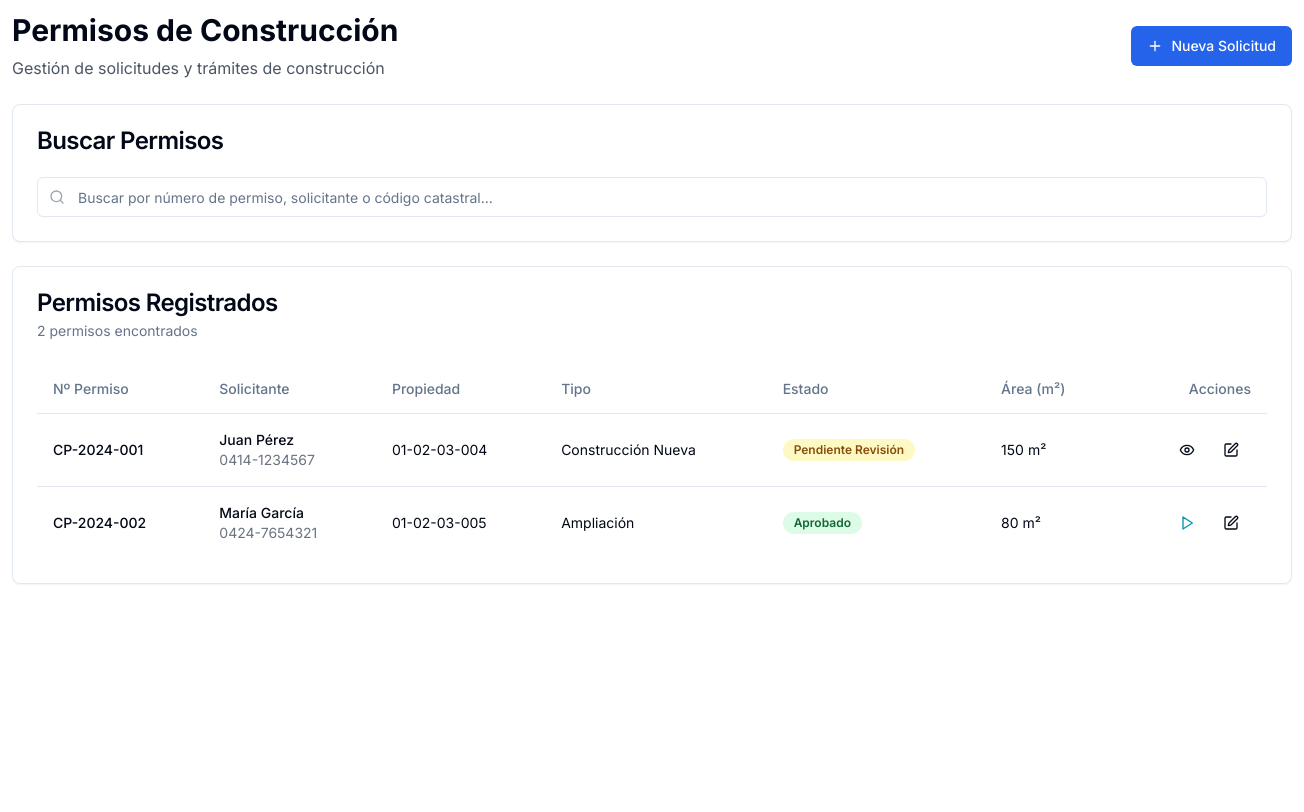
Test: Catastro Integration Tests › Construction Permits Management › filters permits by search term
This screenshot has width=1304, height=812.
Expected: the text "CP-2024-001" is shown, top-left (37, 413), bottom-right (203, 486)
In the field with placeholder "Buscar por número de permiso": x=652, y=197 top-left (37, 177), bottom-right (1267, 217), type "CP-2024-002"
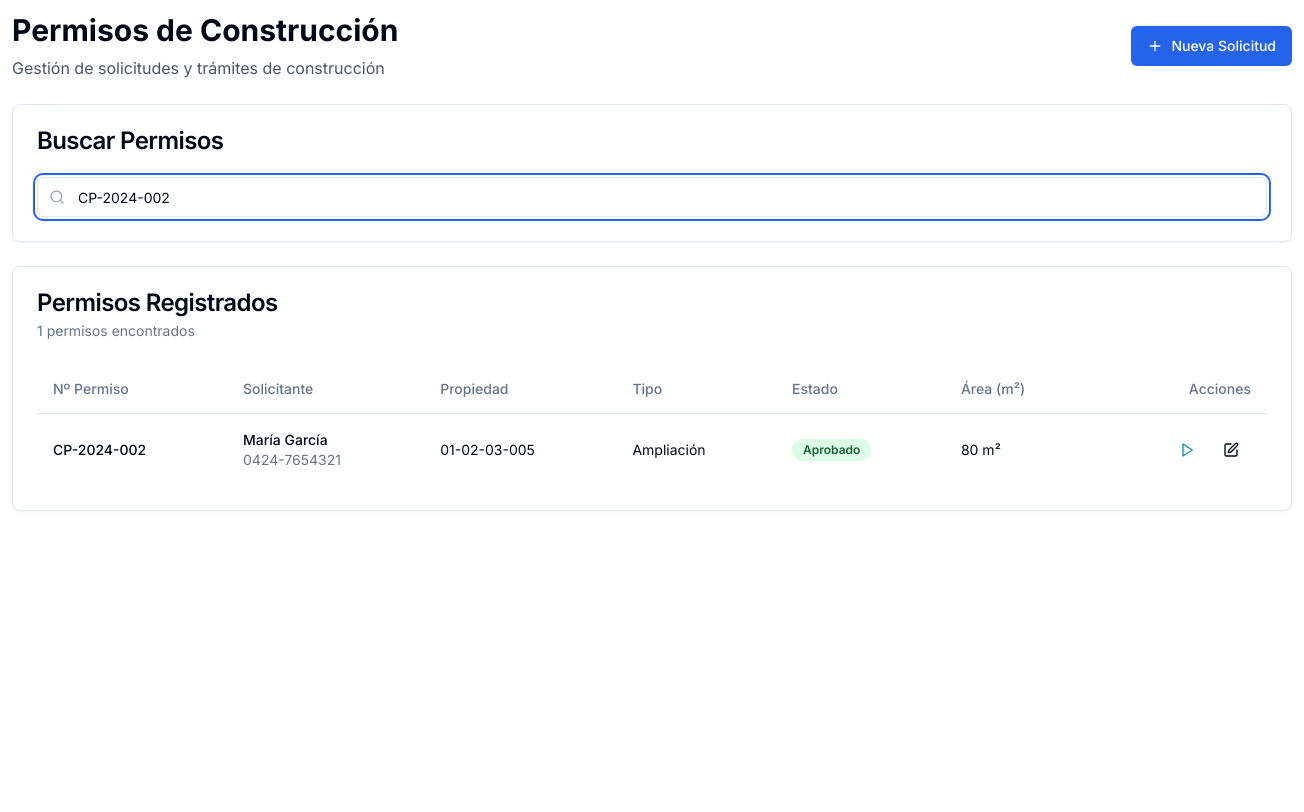
Expected: the text "CP-2024-002" is shown, top-left (37, 413), bottom-right (227, 486)
Result: the text "CP-2024-001" is gone
